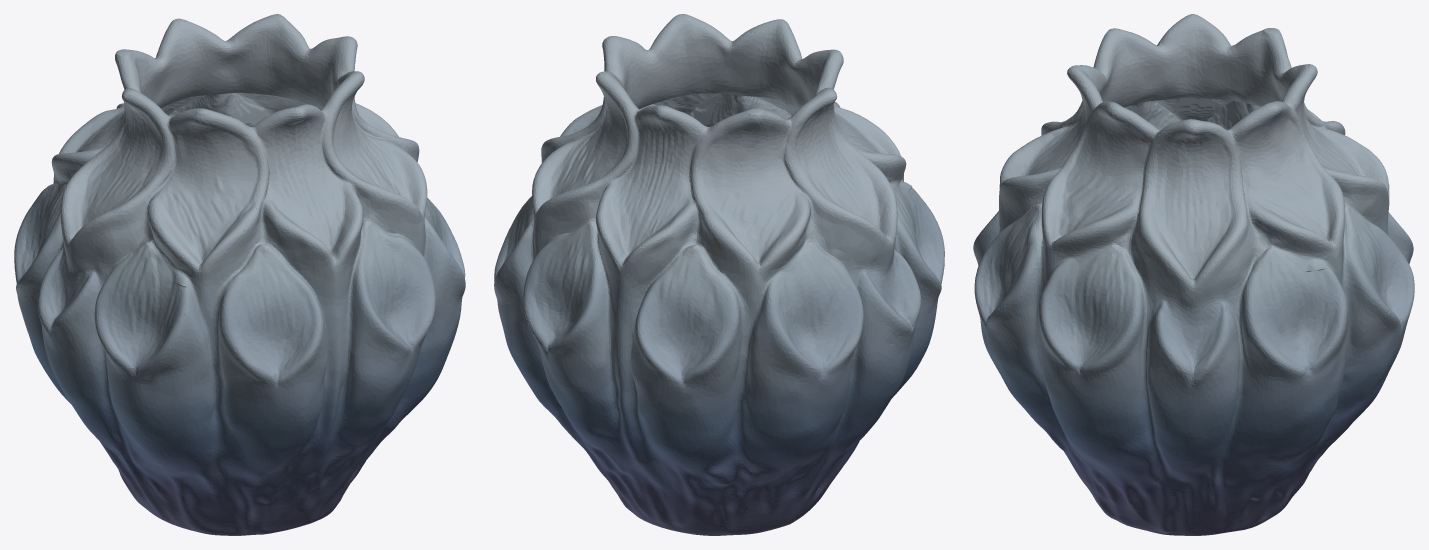
Rendered from H85-web.glb.
3 renders of one model, left to right at view 1: azimuth 30°, elevation 25°; view 2: azimuth 150°, elevation 25°; view 3: azimuth 270°, elevation 25°, orthographic.
Parts seen in each view (by area): view 1: H85; view 2: H85; view 3: H85.
Boxes of the visible parts, x1,y1,x2,y2 form: H85: [14, 14, 465, 535]; H85: [494, 14, 944, 535]; H85: [973, 14, 1414, 535].
Bounding box in the file's own units: 0.2326 × 0.25 × 0.2323.
